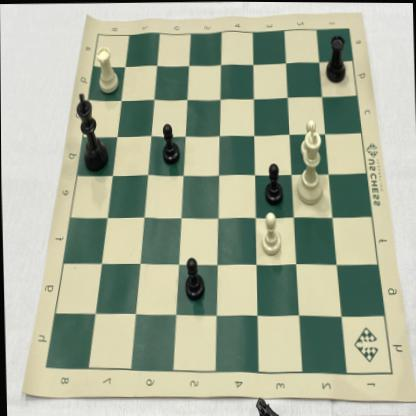black-king: (74, 89, 110, 176)
black-pawn: (180, 247, 207, 305), (158, 117, 182, 169), (260, 159, 285, 207)
black-rook: (322, 27, 352, 85)
white-king: (290, 121, 333, 208)
white-pawn: (257, 207, 286, 258), (298, 114, 324, 162)
white-rook: (91, 43, 122, 101)
